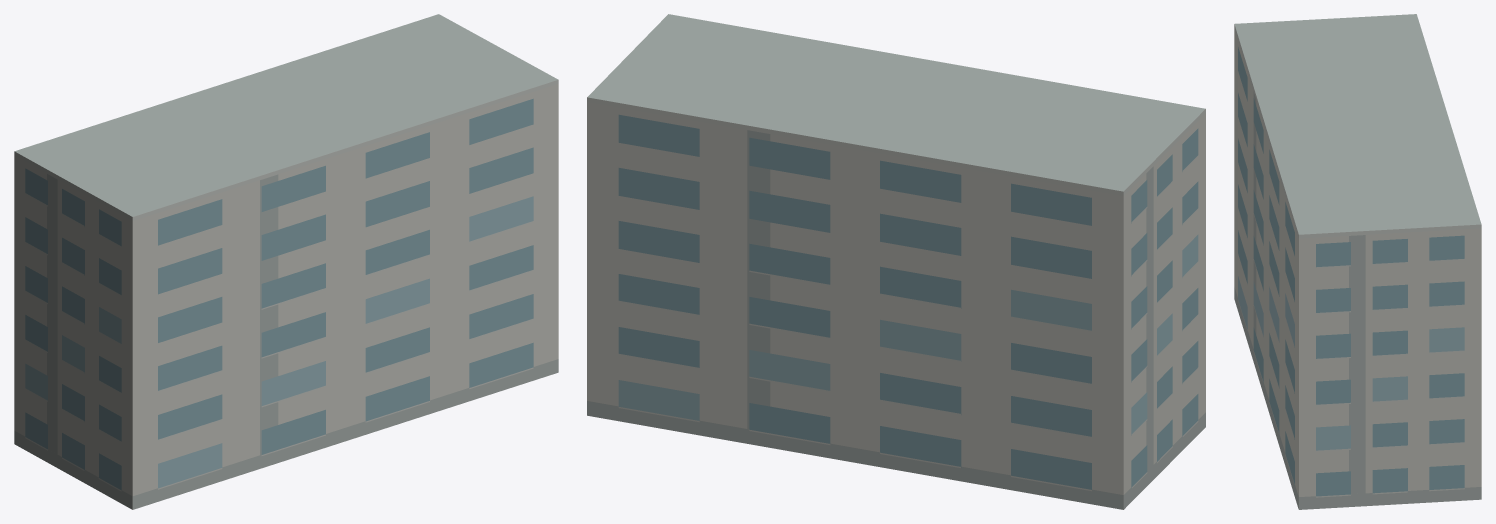
Rendered from survey-upis-32530996.glb.
3 renders of one model, left to right at view 1: azimuth 30°, elevation 25°; view 2: azimuth 150°, elevation 25°; view 3: azimuth 270°, elevation 25°, orthographic. The views are drawn at different scales.
Parts seen in each view (by area): view 1: survey-upis-32530996.tmp; view 2: survey-upis-32530996.tmp; view 3: survey-upis-32530996.tmp.
Boxes of the visible parts, x1=… form: survey-upis-32530996.tmp: x1=14, y1=14, x2=558, y2=509; survey-upis-32530996.tmp: x1=587, y1=14, x2=1205, y2=509; survey-upis-32530996.tmp: x1=1234, y1=14, x2=1481, y2=509.
Size of the model in its own units: 29 by 16.85 by 13.73.
